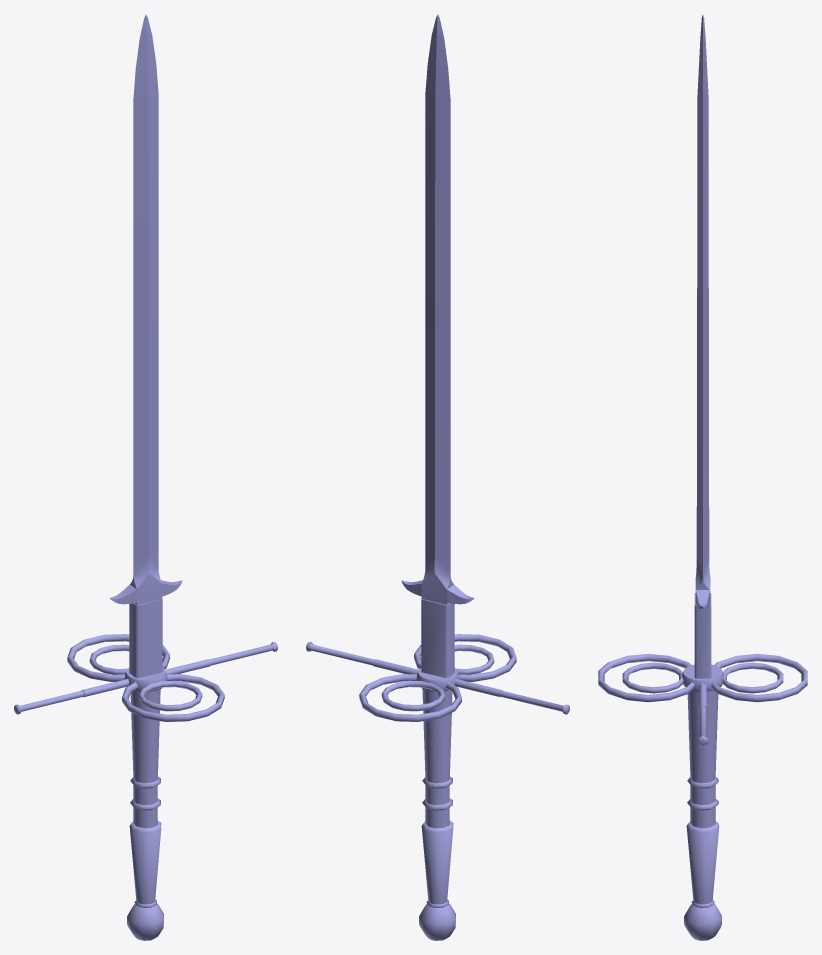
Rendered from Sword 10.fbx.
The picture shows the model from 3 angles, left to right: view 1: azimuth 30°, elevation 25°; view 2: azimuth 150°, elevation 25°; view 3: azimuth 270°, elevation 25°; orthographic projection.
Visible parts, largest first — view 1: Sword_10; view 2: Sword_10; view 3: Sword_10.
Part boxes in pixels (x1,y1,x2,y2): Sword_10: [14, 14, 277, 940]; Sword_10: [306, 14, 569, 940]; Sword_10: [598, 15, 807, 940].
Size of the model in its own units: 29.78 by 101 by 20.77.
